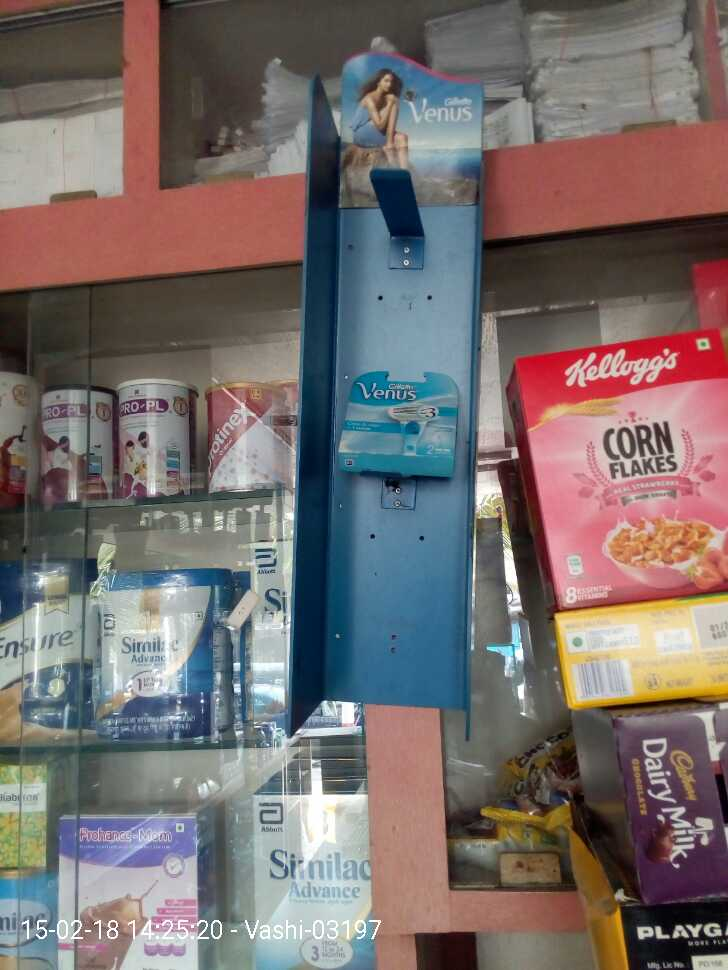venus: (338, 362, 469, 475)
